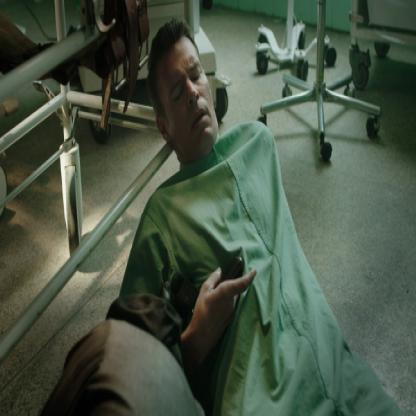Gun: (166, 251, 245, 329)
